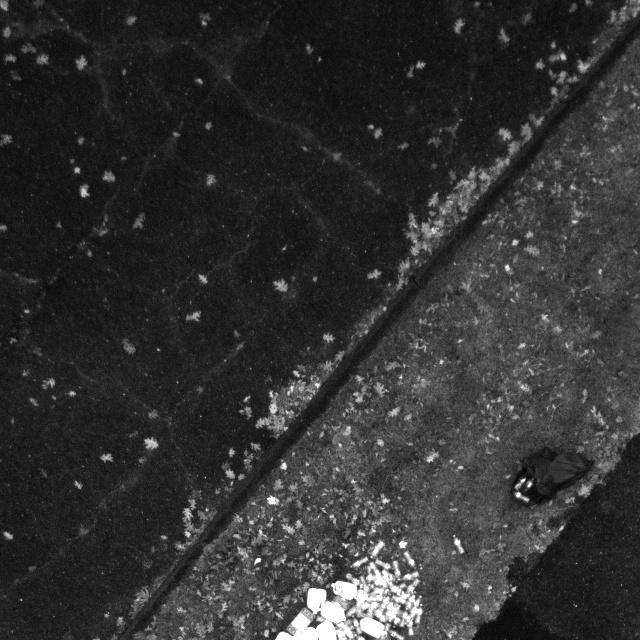bottle: (449, 533, 465, 555), (368, 540, 385, 559), (348, 556, 369, 571), (397, 570, 419, 584), (510, 490, 532, 504), (403, 578, 420, 596), (343, 573, 362, 589), (388, 584, 407, 600), (401, 551, 416, 570), (390, 559, 401, 582), (372, 571, 385, 589), (372, 559, 391, 571), (523, 477, 537, 493), (513, 474, 527, 490)
can: (304, 587, 327, 616), (327, 580, 357, 602)
container: (353, 590, 367, 604)
